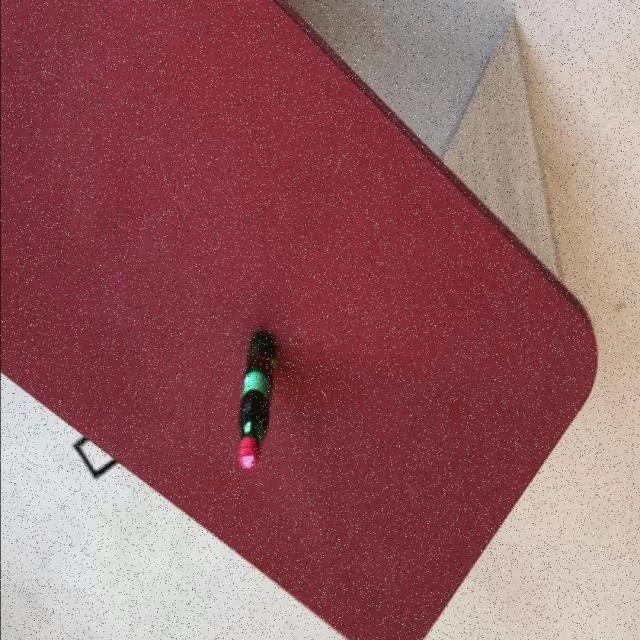Guarana: (0, 0, 600, 640), (237, 328, 279, 470)
